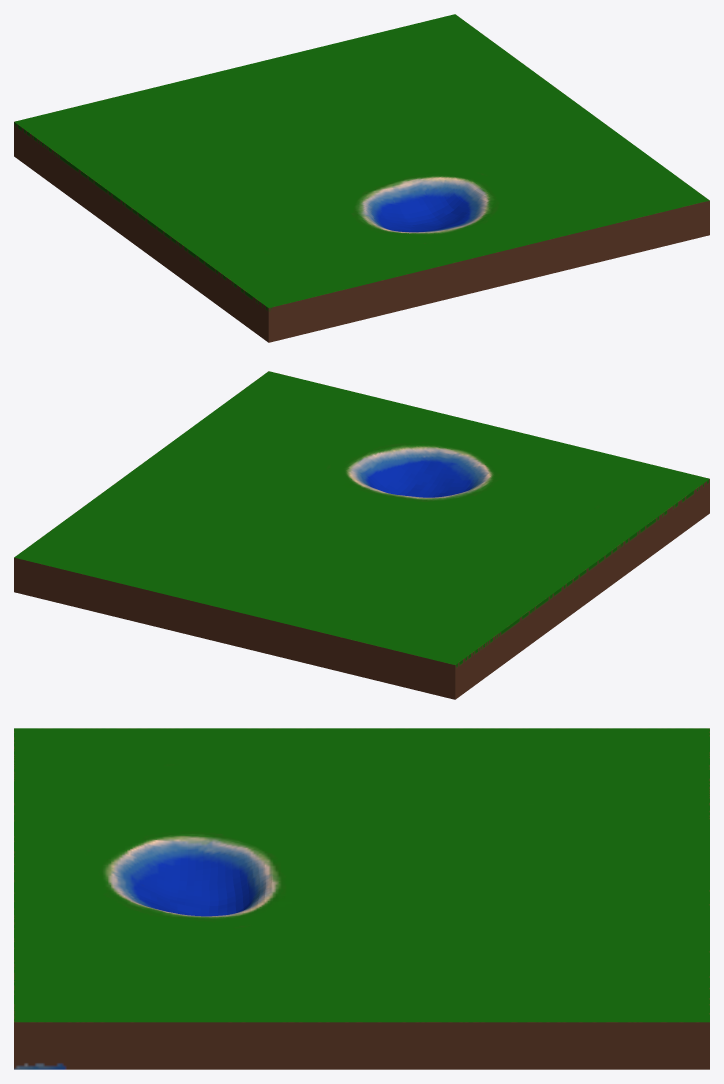
Rendered from MEPPF.glb.
3 views of the same model, one above another, from view 1: azimuth 30°, elevation 25°; view 2: azimuth 150°, elevation 25°; view 3: azimuth 270°, elevation 25° (orthographic). The views are drawn at different scales.
Parts seen in each view (by area): view 1: Cube; view 2: Cube; view 3: Cube.
Boxes of the visible parts, x1,y1,x2,y2 form: Cube: [14, 14, 709, 342]; Cube: [14, 371, 709, 699]; Cube: [14, 728, 709, 1069].
Size of the model in its own units: 200 by 15.09 by 200.
Materials: 1 (1 with a texture image).
